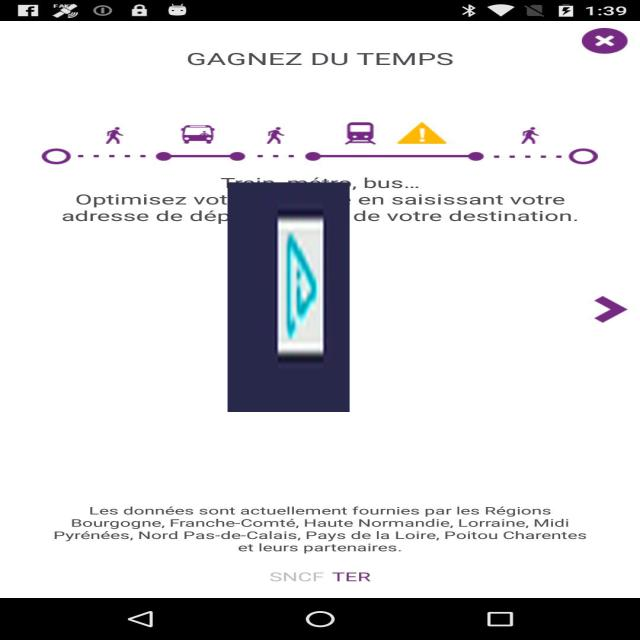sneaking: (228, 182, 350, 412)
